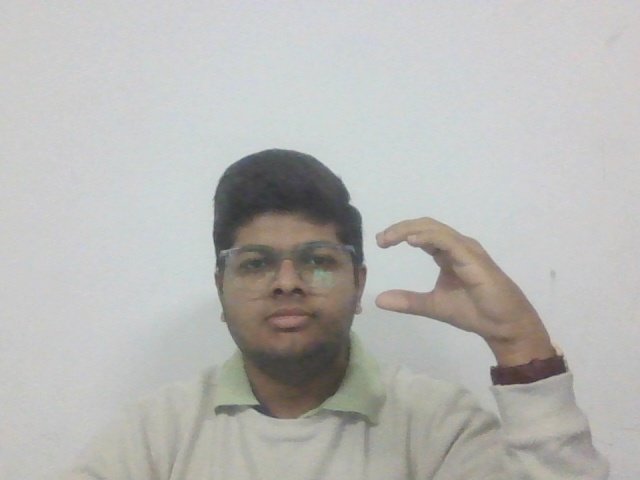C: (374, 214, 539, 340)
